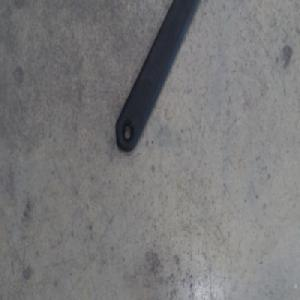AdjustableWrench: (116, 0, 201, 152)
